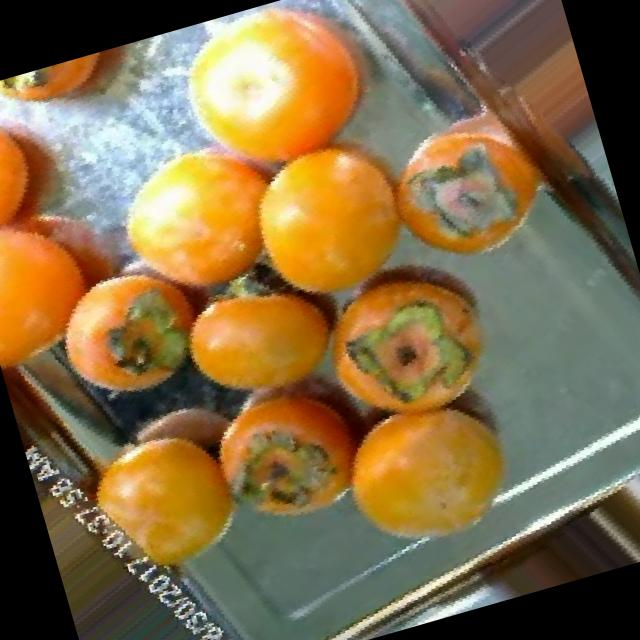Fruit: (302, 357, 562, 592)
